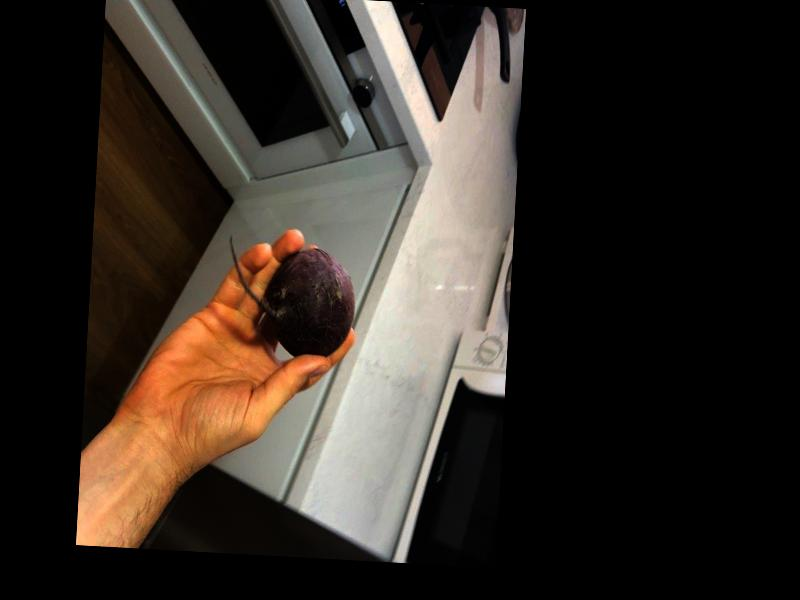Beet: (222, 233, 358, 359)
